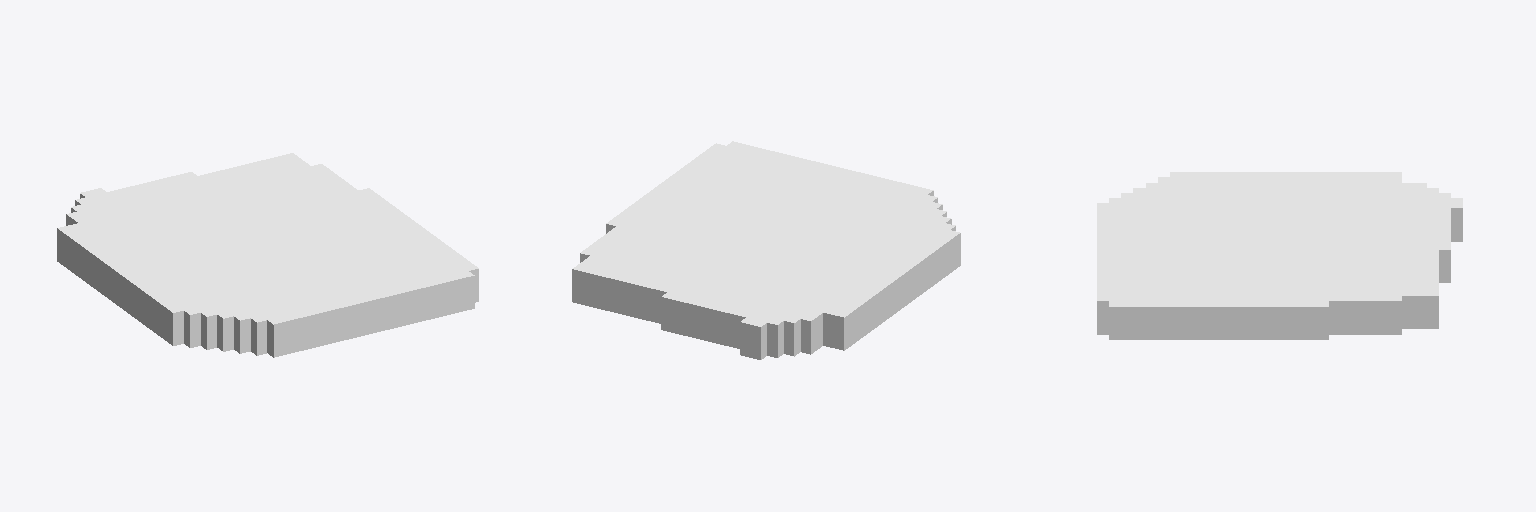
File: Beef.obj
3 renders of one model, left to right at view 1: azimuth 30°, elevation 25°; view 2: azimuth 150°, elevation 25°; view 3: azimuth 270°, elevation 25°, orthographic.
Parts seen in each view (by area): view 1: object 1; view 2: object 1; view 3: object 1.
Boxes of the visible parts, x1=… form: object 1: x1=57, y1=153, x2=478, y2=357; object 1: x1=572, y1=141, x2=960, y2=359; object 1: x1=1097, y1=172, x2=1462, y2=339.
Bounding box in the file's own units: 2.6 × 0.3 × 3.